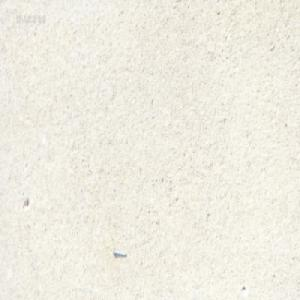Nail: (111, 247, 126, 257)
